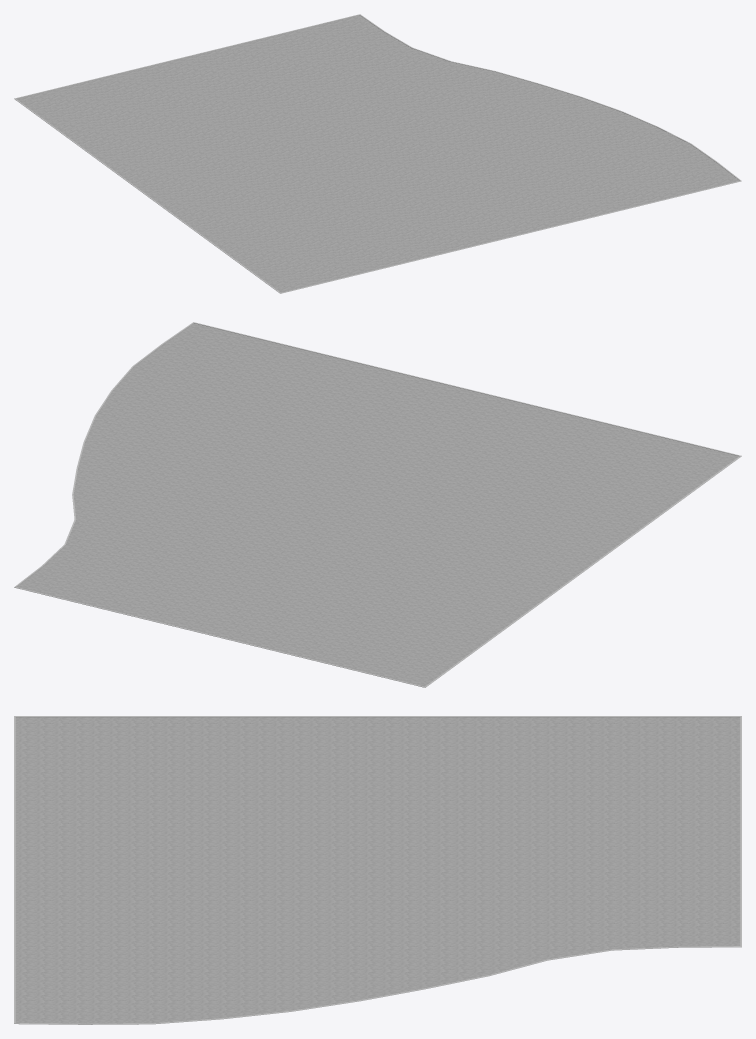
Rendered from Street_H_01.fbx.
3 renders of one model, top to bottom at view 1: azimuth 30°, elevation 25°; view 2: azimuth 150°, elevation 25°; view 3: azimuth 270°, elevation 25°, orthographic. The views are drawn at different scales.
Visible parts, largest first — view 1: Street_H_01; view 2: Street_H_01; view 3: Street_H_01.
Boxes of the visible parts, bbox=[...] form: Street_H_01: bbox=[14, 14, 741, 293]; Street_H_01: bbox=[14, 322, 741, 687]; Street_H_01: bbox=[14, 716, 741, 1024].
Bounding box in the file's own units: 12031 × 6.24 × 12000.
